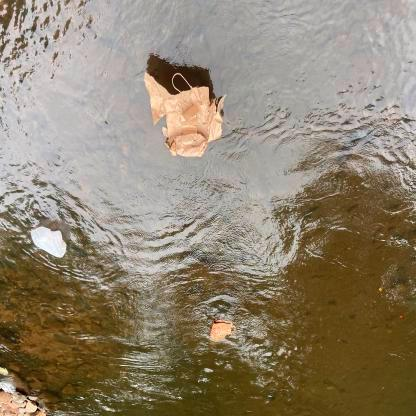Plastic: (28, 221, 70, 264), (0, 378, 18, 398)
Trash: (140, 63, 228, 162), (203, 314, 241, 345)
